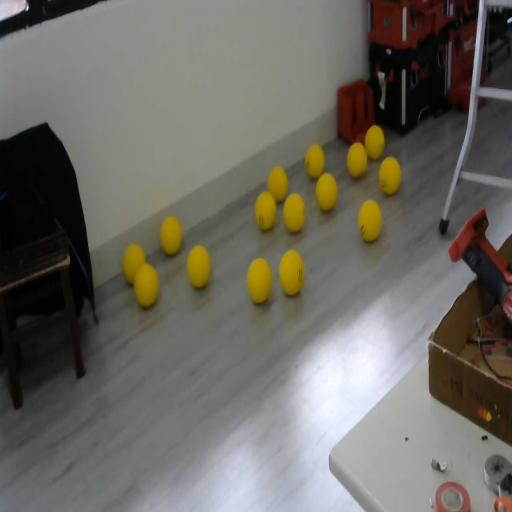FUEL: (246, 257, 273, 304), (132, 262, 159, 308), (278, 249, 304, 296), (186, 244, 212, 289), (358, 199, 382, 243), (282, 192, 306, 234), (314, 172, 338, 213), (254, 190, 277, 232), (378, 156, 402, 196), (159, 215, 182, 256), (346, 140, 368, 179), (267, 165, 288, 203), (364, 123, 385, 161), (304, 143, 326, 179)
